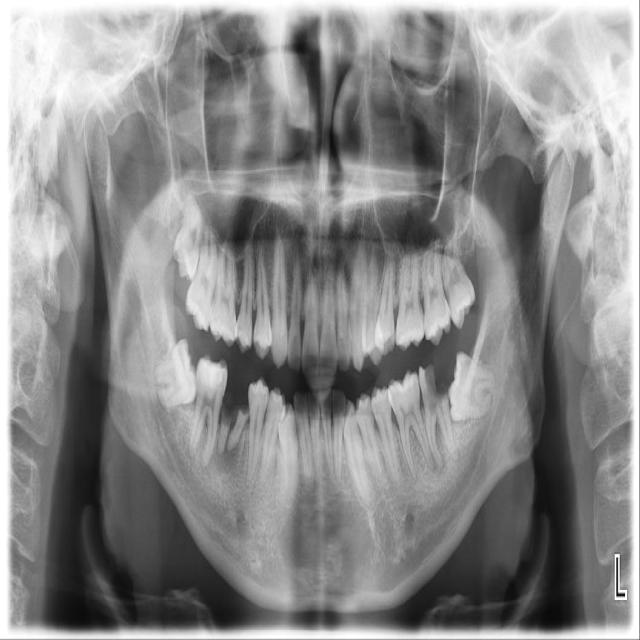Filling: (196, 360, 227, 388)
Periapical lesion: (224, 435, 242, 475), (431, 427, 447, 470), (213, 442, 226, 473), (299, 475, 317, 496), (200, 457, 211, 472), (426, 462, 437, 474)
Root Piece: (419, 364, 444, 466), (436, 393, 459, 461), (226, 410, 248, 451), (217, 407, 231, 452)
impacted tooth: (449, 352, 498, 421), (151, 337, 196, 412), (172, 187, 202, 278)
